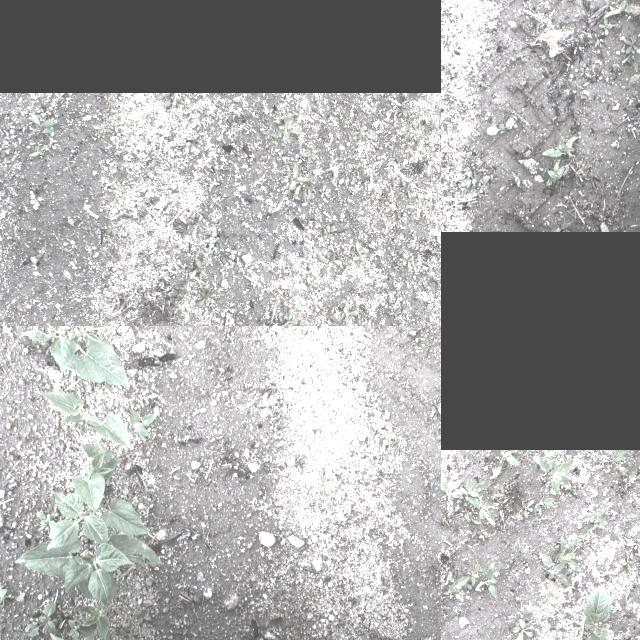crop: (15, 534, 164, 606), (20, 326, 130, 386), (46, 490, 150, 550), (34, 389, 130, 449), (72, 443, 122, 511), (582, 585, 615, 640), (75, 592, 111, 640), (49, 630, 148, 640)
weed: (534, 455, 572, 495), (23, 602, 57, 636), (121, 409, 157, 441), (538, 550, 568, 586), (558, 537, 584, 571), (595, 449, 629, 475), (464, 495, 500, 519), (540, 134, 578, 156), (492, 449, 520, 476), (452, 478, 490, 497), (30, 112, 54, 140), (447, 571, 469, 601), (461, 166, 492, 187), (485, 116, 517, 136), (404, 120, 430, 144), (564, 526, 592, 548), (320, 249, 342, 275), (256, 390, 278, 416), (272, 308, 300, 326), (189, 257, 209, 281), (278, 116, 302, 136), (293, 176, 317, 196), (546, 160, 564, 186), (351, 240, 372, 262), (515, 618, 534, 640), (37, 510, 57, 530), (534, 497, 556, 515), (592, 500, 608, 524), (487, 563, 498, 597), (441, 478, 462, 495), (289, 162, 301, 190), (621, 550, 635, 574), (198, 288, 214, 308), (623, 34, 639, 54), (541, 590, 555, 612), (339, 306, 358, 322), (369, 240, 385, 258), (134, 610, 152, 626), (105, 220, 125, 234), (611, 0, 631, 14), (521, 498, 535, 518), (321, 310, 339, 324), (406, 258, 424, 272), (260, 380, 278, 394), (430, 160, 441, 182), (120, 118, 140, 130), (402, 250, 414, 270), (550, 221, 574, 231), (68, 620, 80, 640), (36, 245, 50, 261), (156, 92, 172, 106), (351, 125, 367, 139), (321, 489, 335, 505), (294, 458, 308, 474), (118, 315, 138, 326), (629, 62, 640, 82), (468, 562, 478, 584), (109, 184, 127, 196), (228, 244, 246, 256), (599, 17, 611, 35), (419, 147, 436, 159), (306, 278, 320, 292), (211, 358, 225, 372), (626, 537, 640, 551), (32, 144, 48, 156), (63, 160, 75, 176), (582, 537, 598, 549), (400, 180, 410, 198), (424, 117, 436, 131), (0, 585, 7, 609), (96, 381, 110, 393), (426, 296, 441, 307), (196, 228, 212, 238), (262, 128, 278, 138), (300, 150, 316, 160), (414, 192, 424, 208), (289, 453, 305, 463), (30, 192, 42, 205), (173, 309, 184, 323), (92, 124, 111, 132), (164, 296, 183, 304), (50, 92, 66, 101), (364, 92, 382, 100), (282, 154, 290, 172), (615, 480, 627, 492), (63, 247, 77, 257), (397, 102, 407, 116), (324, 224, 334, 238), (426, 257, 436, 271), (388, 308, 402, 318), (332, 483, 342, 497), (388, 438, 402, 448), (463, 576, 473, 590), (479, 521, 489, 535), (568, 477, 578, 491), (101, 245, 112, 257), (282, 105, 292, 118), (176, 99, 192, 107), (129, 634, 150, 640), (8, 182, 18, 194), (139, 216, 151, 226), (314, 92, 324, 104), (319, 132, 331, 142), (276, 248, 288, 258), (283, 285, 293, 297), (168, 512, 180, 522), (540, 614, 550, 626), (114, 147, 128, 155), (193, 130, 207, 138), (365, 200, 379, 208), (184, 469, 200, 476), (430, 406, 438, 420), (540, 449, 556, 456), (338, 265, 349, 275), (319, 185, 327, 198), (206, 243, 216, 253), (212, 293, 222, 303), (604, 0, 615, 9), (164, 210, 176, 218), (126, 228, 134, 240), (288, 268, 300, 276), (396, 245, 408, 253), (51, 329, 59, 341), (469, 515, 481, 523), (234, 316, 243, 326), (148, 491, 156, 502), (348, 596, 359, 604), (106, 105, 116, 113), (156, 169, 164, 179), (93, 221, 103, 229), (109, 288, 117, 298), (280, 96, 290, 104), (280, 268, 288, 278), (396, 172, 404, 182), (319, 302, 327, 312), (403, 163, 413, 171), (142, 494, 152, 502), (354, 365, 364, 373), (108, 164, 114, 176), (429, 178, 438, 186), (319, 470, 325, 482), (310, 428, 322, 434), (354, 162, 361, 172), (203, 516, 210, 526), (104, 95, 112, 103), (370, 134, 378, 142), (386, 178, 394, 186), (143, 196, 151, 204), (629, 470, 635, 480), (122, 162, 134, 166), (129, 176, 141, 180), (170, 201, 178, 207), (108, 237, 114, 245), (302, 167, 314, 171), (398, 214, 404, 222), (388, 232, 394, 240), (395, 262, 401, 270), (215, 390, 221, 398), (288, 430, 296, 436), (95, 92, 102, 98), (228, 124, 235, 130), (280, 174, 284, 182), (248, 382, 256, 386), (294, 323, 304, 326), (106, 118, 110, 125), (416, 93, 422, 97), (438, 316, 441, 324), (360, 324, 368, 326), (541, 516, 547, 518), (291, 326, 296, 328), (400, 226, 404, 228)
